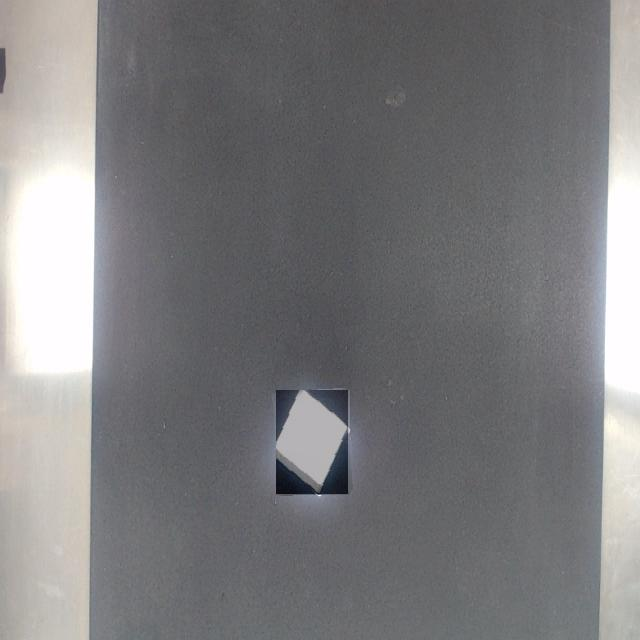Blanco: (276, 391, 348, 494)
